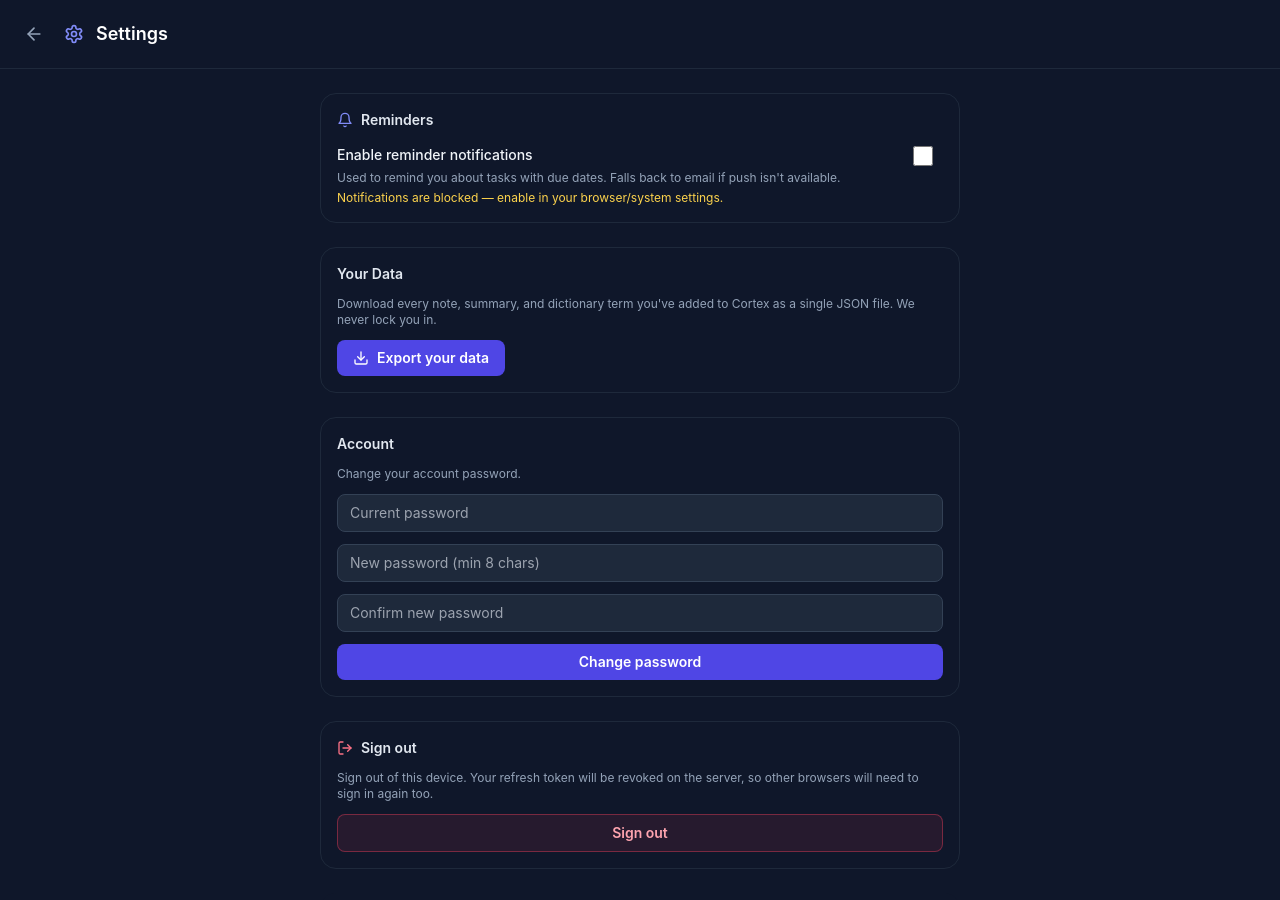
Test: SettingsPage — change password section (Round 15 / PR #23) › change-password mismatched new+confirm shows validation error inline
Type "oldpass99" into the password field labelled "Current password" at [640, 513], box [337, 494, 943, 532]
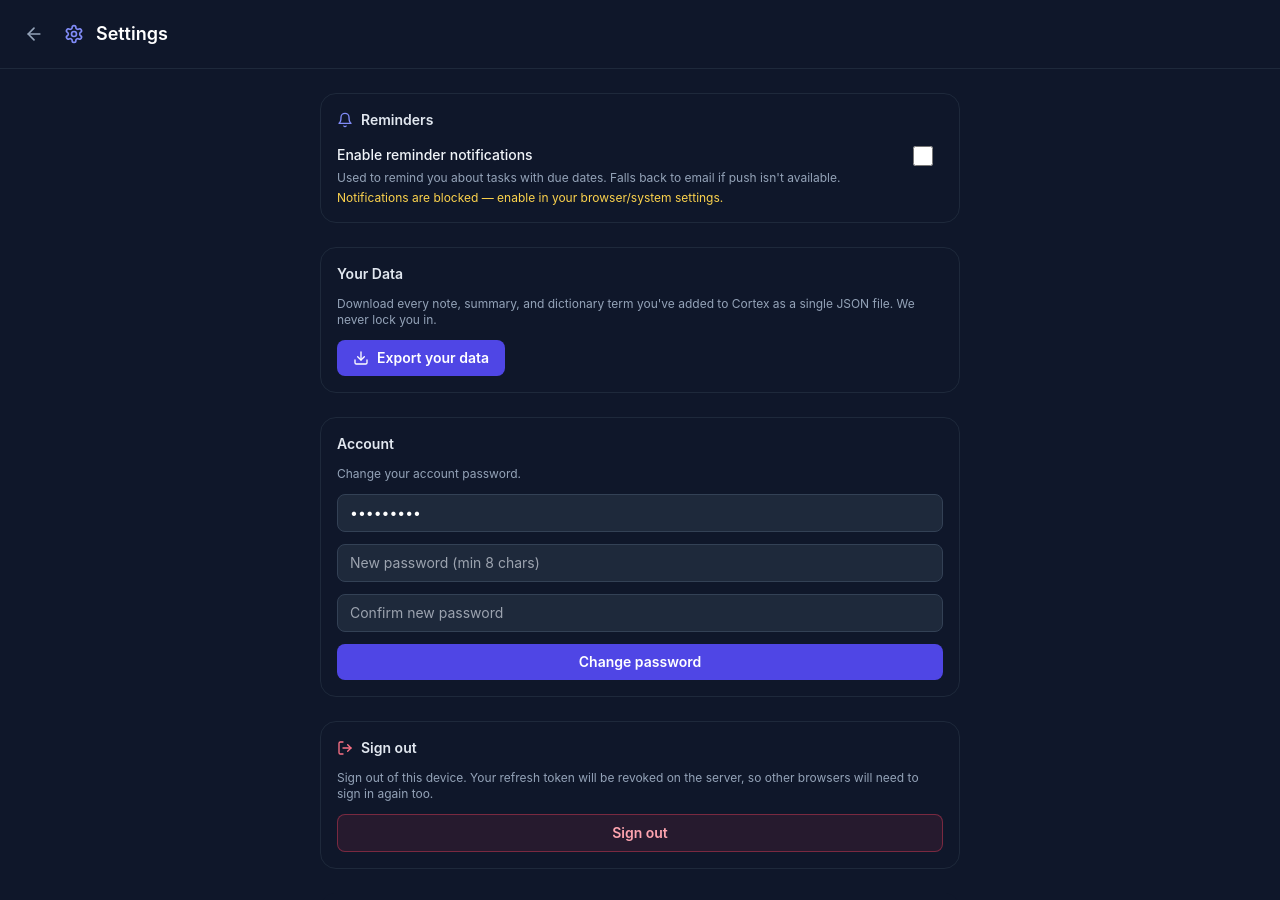
Type "newpass99" into the password field labelled "New password (min 8 chars)" at [640, 563], box [337, 544, 943, 582]
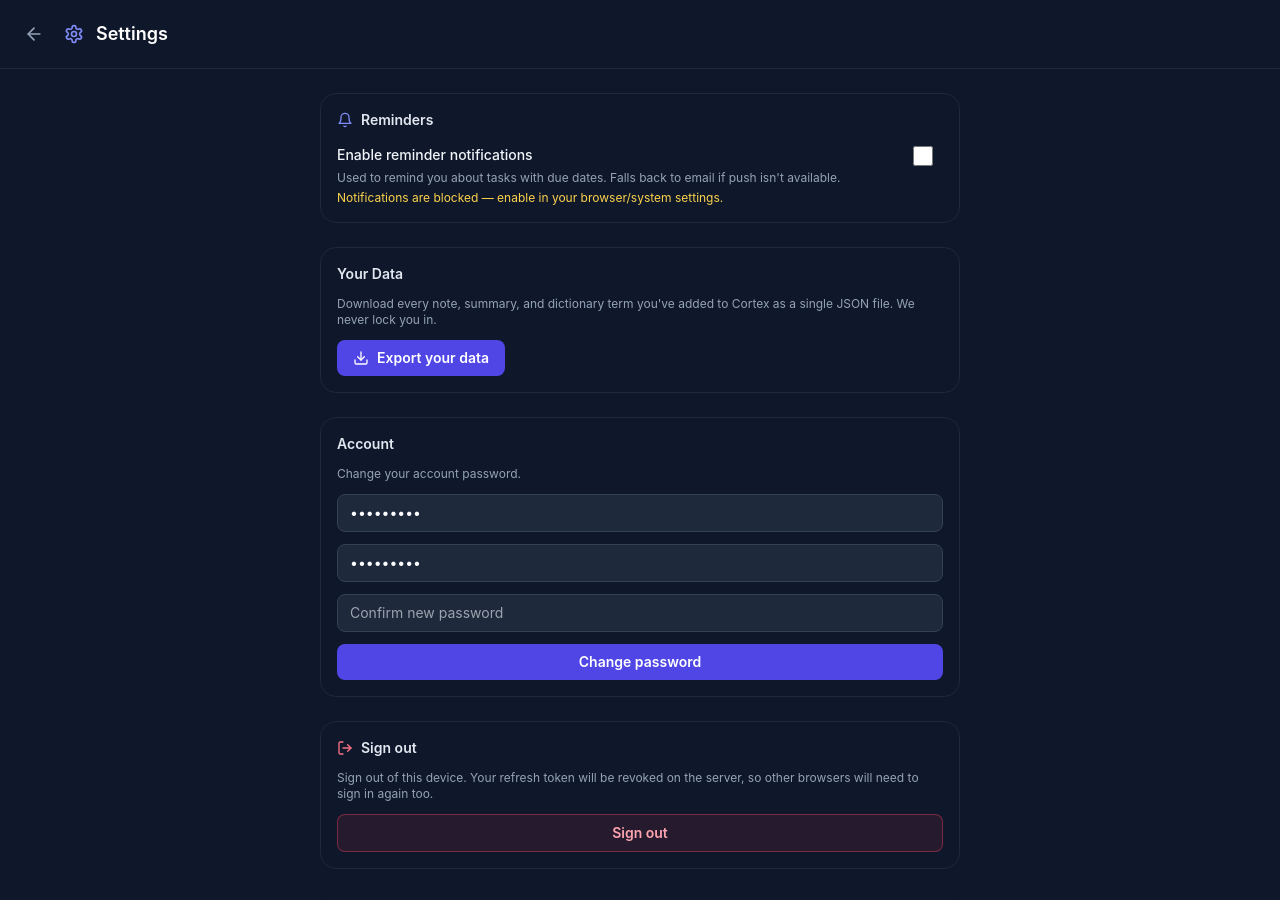
Type "different9" into the password field labelled "Confirm new password" at [640, 613], box [337, 594, 943, 632]
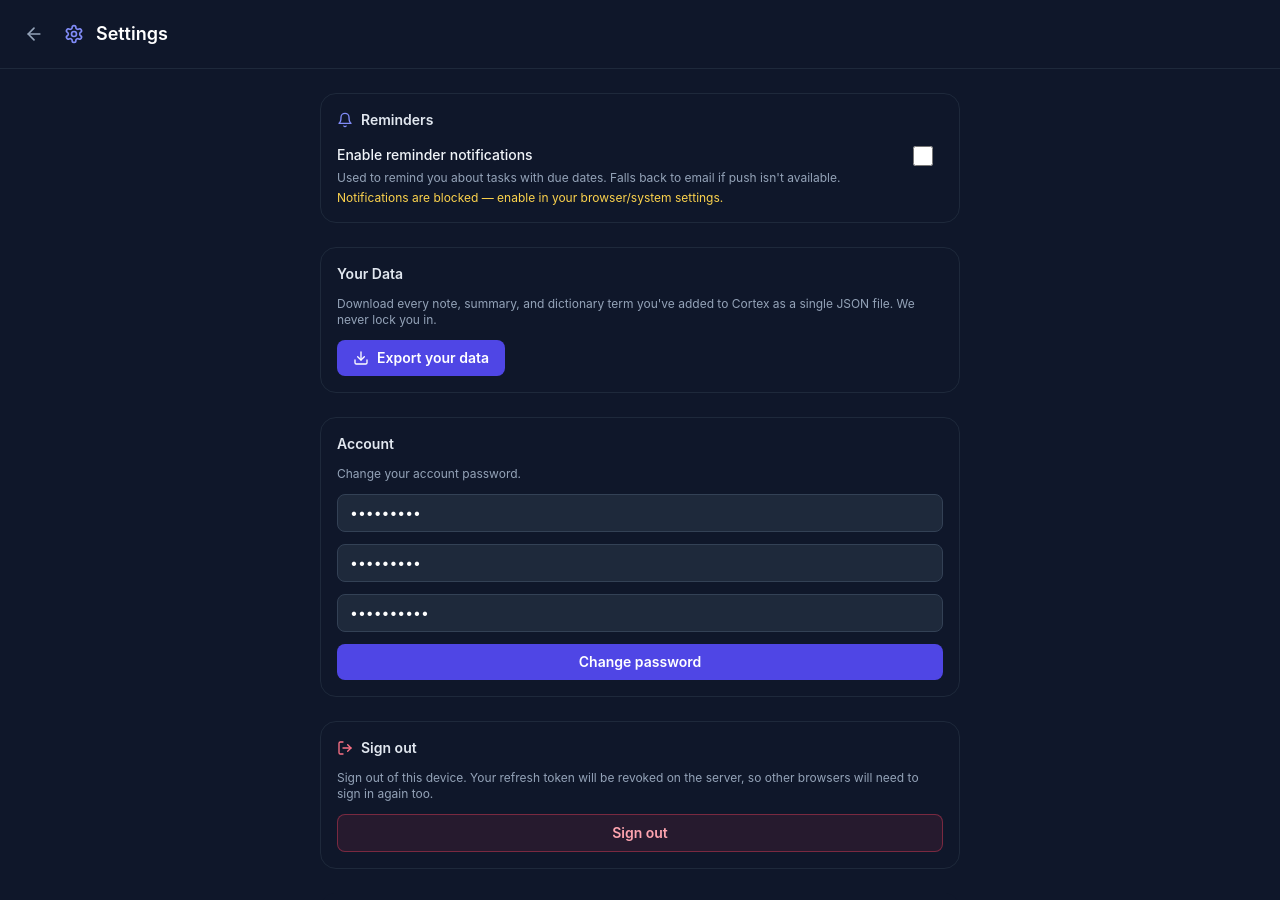
Click the button "Change password" at [640, 662], box [337, 644, 943, 680]
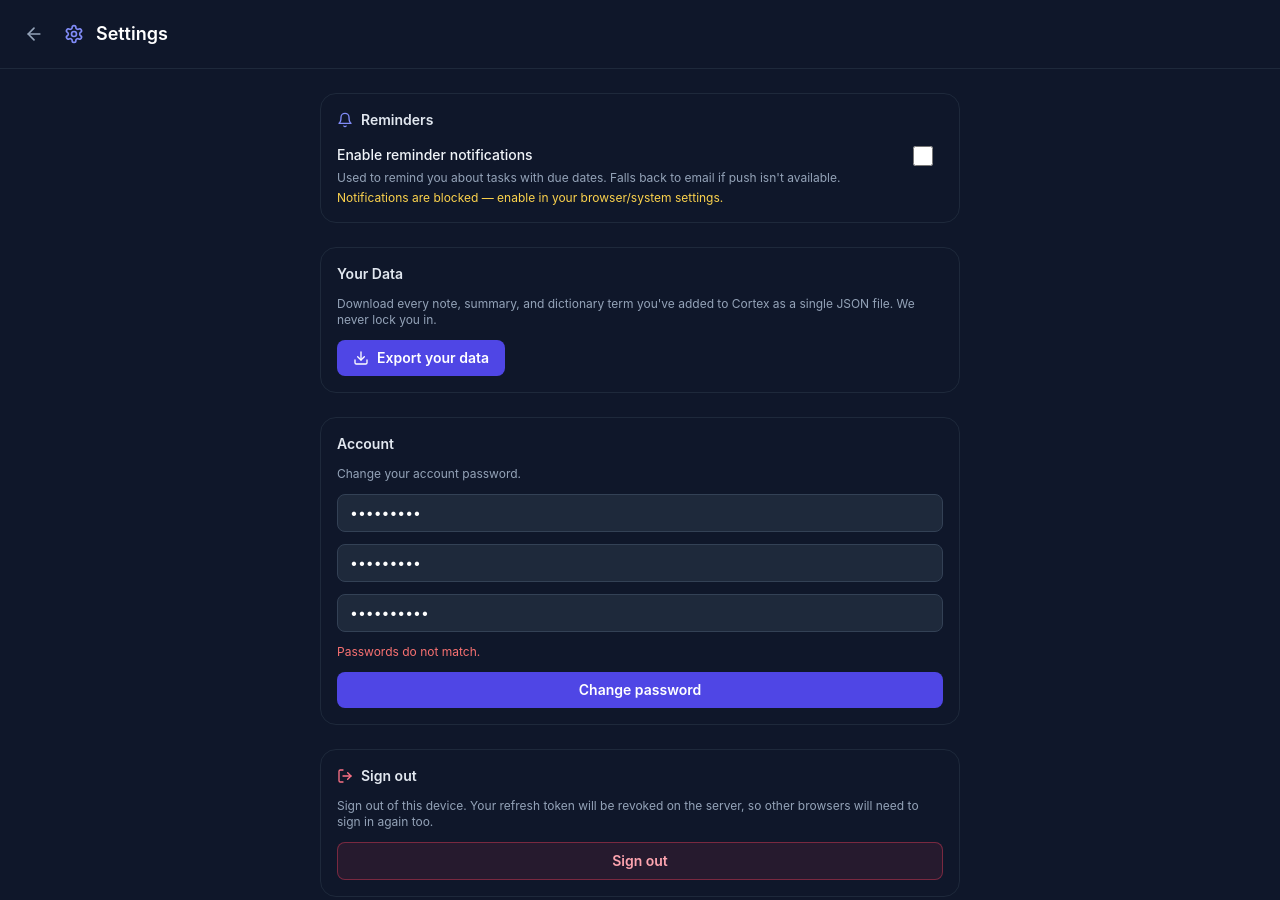
Now the text "Passwords do not match." is shown, box [337, 644, 480, 659]
